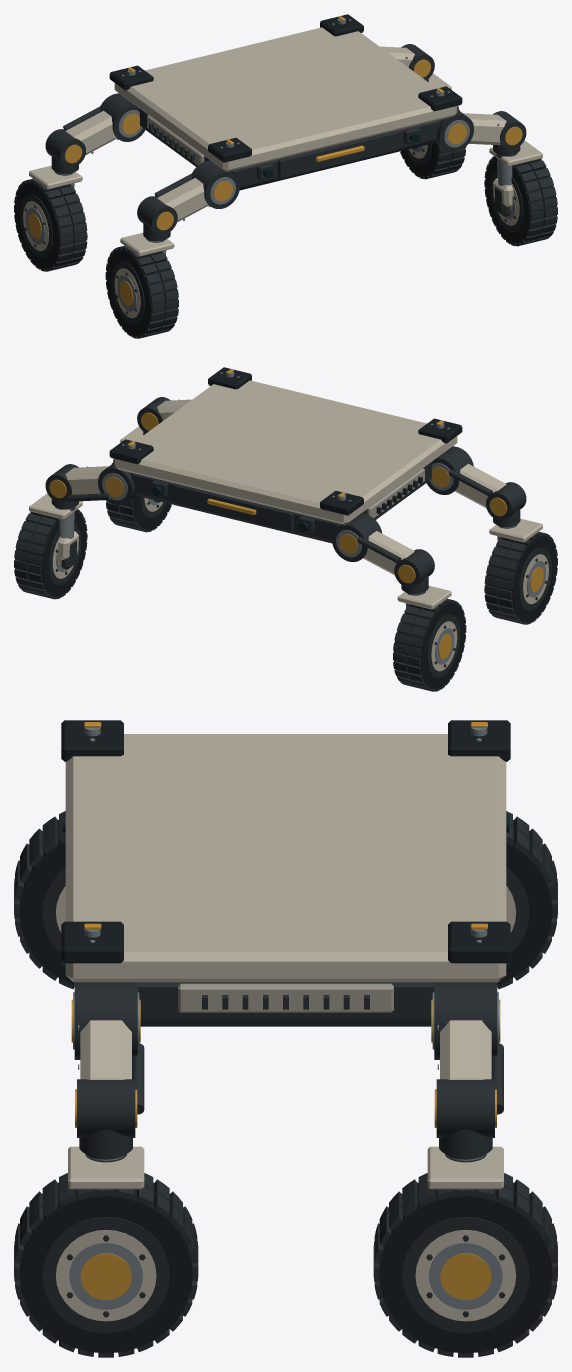
The model's file is stride_d0_lod0.glb.
The picture shows the model from 3 angles, top to bottom: view 1: azimuth 30°, elevation 25°; view 2: azimuth 150°, elevation 25°; view 3: azimuth 270°, elevation 25°; orthographic projection. The views are drawn at different scales.
Parts seen in each view (by area): view 1: CHASSIS_SURFACE, WHEEL_FL_SURFACE, WHEEL_RL_SURFACE, WHEEL_FR_SURFACE, LEG_FL_UPPER_SURFACE, LEG_RL_UPPER_SURFACE, LEG_FR_UPPER_SURFACE, LEG_FR_LOWER_SURFACE, WHEEL_RR_SURFACE, LEG_RL_LOWER_SURFACE, LEG_FL_LOWER_SURFACE, LEG_FR_UPRIGHT_SURFACE (+3 smaller); view 2: CHASSIS_SURFACE, WHEEL_RL_SURFACE, WHEEL_FL_SURFACE, WHEEL_RR_SURFACE, LEG_RL_UPPER_SURFACE, LEG_FL_UPPER_SURFACE, LEG_RR_UPPER_SURFACE, WHEEL_FR_SURFACE, LEG_RR_LOWER_SURFACE, LEG_FL_LOWER_SURFACE, LEG_RL_LOWER_SURFACE, LEG_RR_UPRIGHT_SURFACE (+3 smaller); view 3: CHASSIS_SURFACE, WHEEL_FR_SURFACE, WHEEL_RR_SURFACE, LEG_FR_UPPER_SURFACE, LEG_RR_UPPER_SURFACE, WHEEL_FL_SURFACE, WHEEL_RL_SURFACE, LEG_FR_LOWER_SURFACE, LEG_RR_LOWER_SURFACE, LEG_FR_UPRIGHT_SURFACE, LEG_RR_UPRIGHT_SURFACE.
Part boxes in pixels (x1,y1,x2,y2): CHASSIS_SURFACE: [109, 14, 462, 190]; WHEEL_FL_SURFACE: [105, 245, 178, 338]; WHEEL_RL_SURFACE: [14, 178, 87, 271]; WHEEL_FR_SURFACE: [484, 156, 557, 246]; LEG_FL_UPPER_SURFACE: [154, 160, 239, 222]; LEG_RL_UPPER_SURFACE: [63, 93, 145, 155]; LEG_FR_UPPER_SURFACE: [436, 109, 506, 151]; LEG_FR_LOWER_SURFACE: [493, 111, 526, 207]; WHEEL_RR_SURFACE: [400, 105, 466, 179]; LEG_RL_LOWER_SURFACE: [45, 129, 85, 187]; LEG_FL_LOWER_SURFACE: [137, 196, 177, 255]; LEG_FR_UPRIGHT_SURFACE: [489, 140, 542, 216]; CHASSIS_SURFACE: [109, 367, 462, 543]; WHEEL_RL_SURFACE: [393, 598, 466, 691]; WHEEL_FL_SURFACE: [484, 531, 557, 624]; WHEEL_RR_SURFACE: [14, 509, 87, 599]; LEG_RL_UPPER_SURFACE: [332, 513, 414, 575]; LEG_FL_UPPER_SURFACE: [426, 446, 506, 508]; LEG_RR_UPPER_SURFACE: [65, 462, 135, 504]; WHEEL_FR_SURFACE: [105, 458, 171, 532]; LEG_RR_LOWER_SURFACE: [45, 464, 78, 560]; LEG_FL_LOWER_SURFACE: [486, 482, 526, 540]; LEG_RL_LOWER_SURFACE: [394, 549, 434, 608]; LEG_RR_UPRIGHT_SURFACE: [29, 493, 82, 569]; CHASSIS_SURFACE: [61, 720, 510, 1026]; WHEEL_FR_SURFACE: [14, 1173, 198, 1357]; WHEEL_RR_SURFACE: [373, 1173, 557, 1357]; LEG_FR_UPPER_SURFACE: [71, 982, 144, 1114]; LEG_RR_UPPER_SURFACE: [431, 982, 503, 1114]; WHEEL_FL_SURFACE: [14, 811, 74, 989]; WHEEL_RL_SURFACE: [497, 811, 557, 989]; LEG_FR_LOWER_SURFACE: [75, 1079, 137, 1162]; LEG_RR_LOWER_SURFACE: [434, 1079, 496, 1162]; LEG_FR_UPRIGHT_SURFACE: [68, 1146, 144, 1189]; LEG_RR_UPRIGHT_SURFACE: [427, 1146, 503, 1189].
Bounding box in the file's own units: 2.07 × 0.833 × 1.21.
